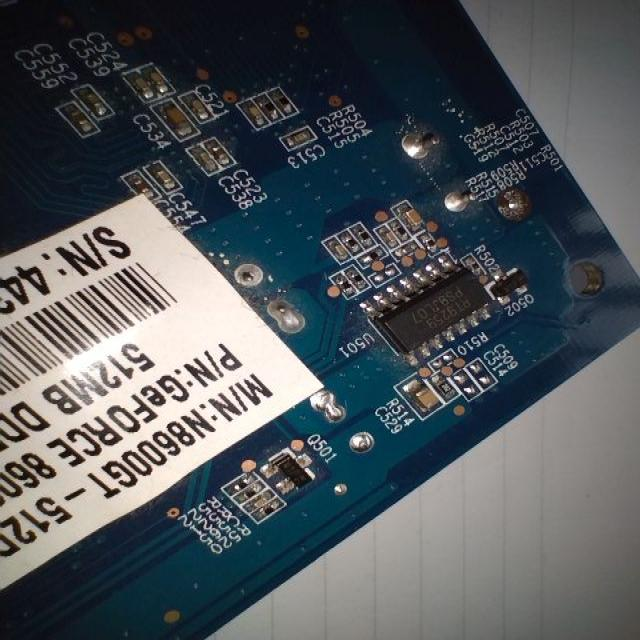capacitor: (396, 363, 444, 432)
